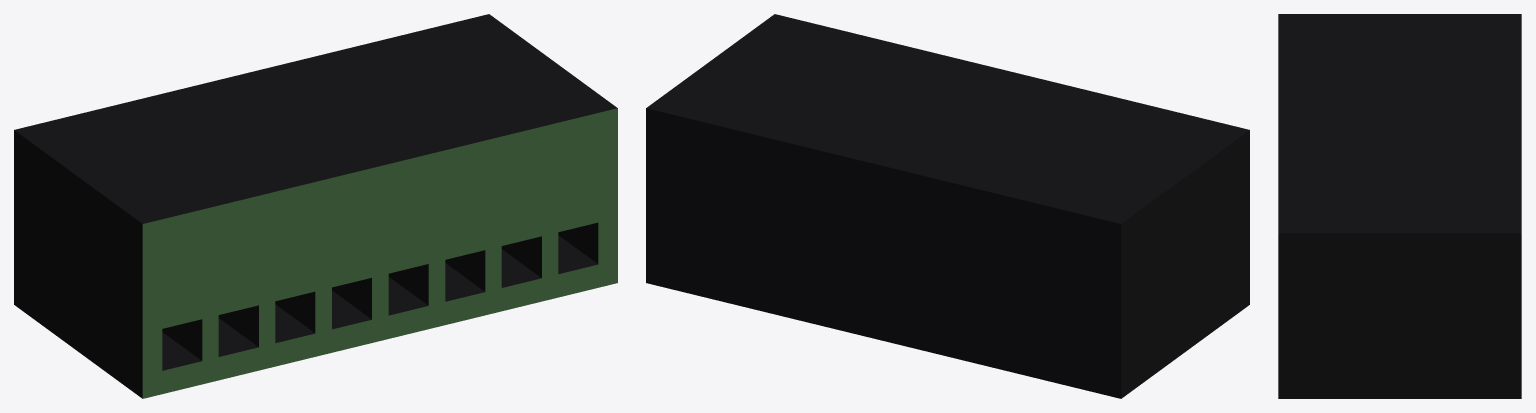
The model's file is gpio-terminal.glb.
3 renders of one model, left to right at view 1: azimuth 30°, elevation 25°; view 2: azimuth 150°, elevation 25°; view 3: azimuth 270°, elevation 25°, orthographic. The views are drawn at different scales.
Visible parts, largest first — view 1: gpio-terminal-body; view 2: gpio-terminal-body; view 3: gpio-terminal-body.
Part boxes in pixels (left/top/right/bottom): gpio-terminal-body: left=14, top=14, right=617, bottom=398; gpio-terminal-body: left=646, top=14, right=1249, bottom=398; gpio-terminal-body: left=1278, top=14, right=1521, bottom=398.
Size of the model in its own units: 0.0426 by 0.015 by 0.02.
